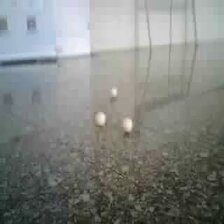w: (121, 118, 134, 133), (95, 111, 106, 126), (110, 87, 117, 96)
